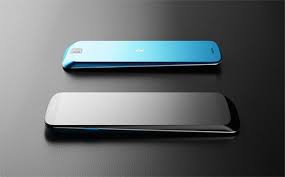vsmart: (58, 37, 226, 75)
